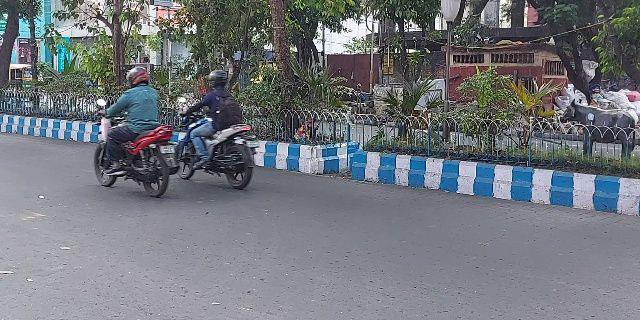Motorbike: (88, 68, 184, 197), (172, 66, 264, 191)
